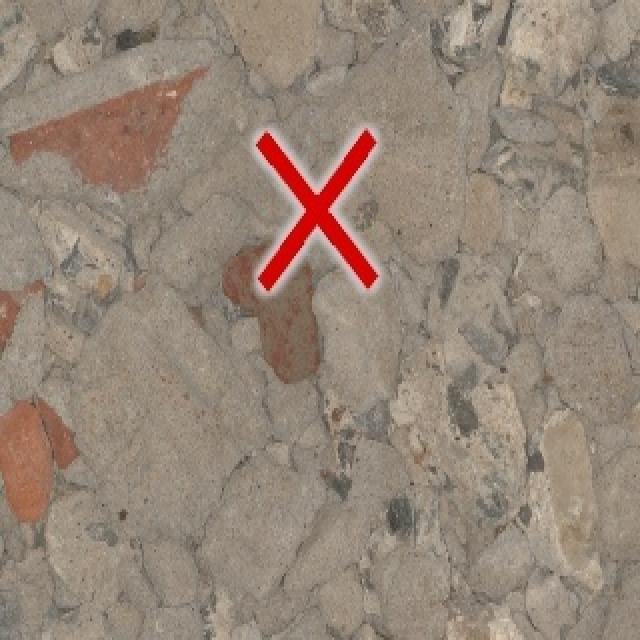x_marker: (255, 130, 377, 290)
